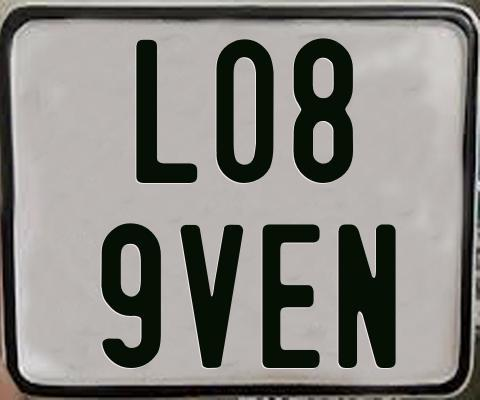0: (216, 37, 278, 183)
8: (292, 38, 354, 189)
9: (99, 221, 164, 368)
E: (262, 221, 326, 367)
L: (135, 40, 196, 183)
N: (338, 223, 400, 373)
V: (180, 223, 245, 372)
